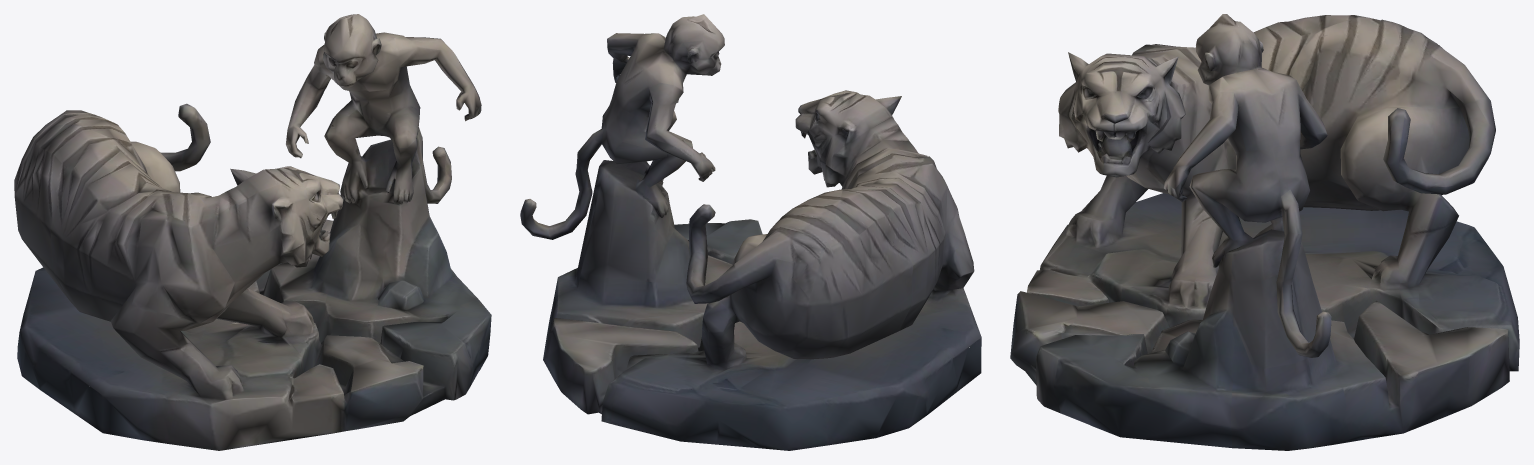
Rendered from chong_yin_shen.glb.
3 views of the same model, side by side, from view 1: azimuth 30°, elevation 25°; view 2: azimuth 150°, elevation 25°; view 3: azimuth 270°, elevation 25° (orthographic). The views are drawn at different scales.
Visible parts, largest first — view 1: tripo_node_87573647-835b-46cc-96cc-00ebf1931289; view 2: tripo_node_87573647-835b-46cc-96cc-00ebf1931289; view 3: tripo_node_87573647-835b-46cc-96cc-00ebf1931289.
Part boxes in pixels (x1=…): tripo_node_87573647-835b-46cc-96cc-00ebf1931289: x1=14, y1=14, x2=491, y2=450; tripo_node_87573647-835b-46cc-96cc-00ebf1931289: x1=520, y1=14, x2=981, y2=450; tripo_node_87573647-835b-46cc-96cc-00ebf1931289: x1=1010, y1=14, x2=1519, y2=450.
Size of the model in its own units: 0.9991 by 0.7485 by 0.9237.
Materials: 1 (1 with a texture image).
